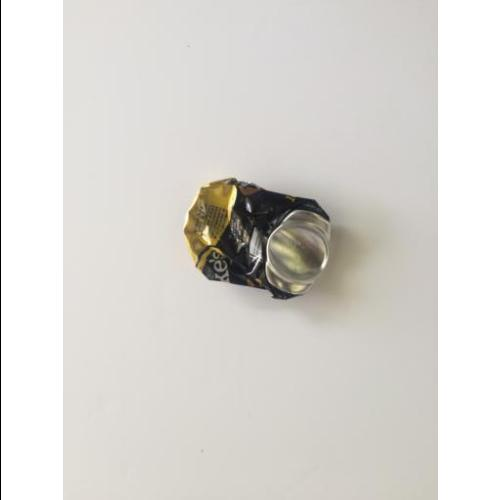metal: (184, 178, 333, 301)
